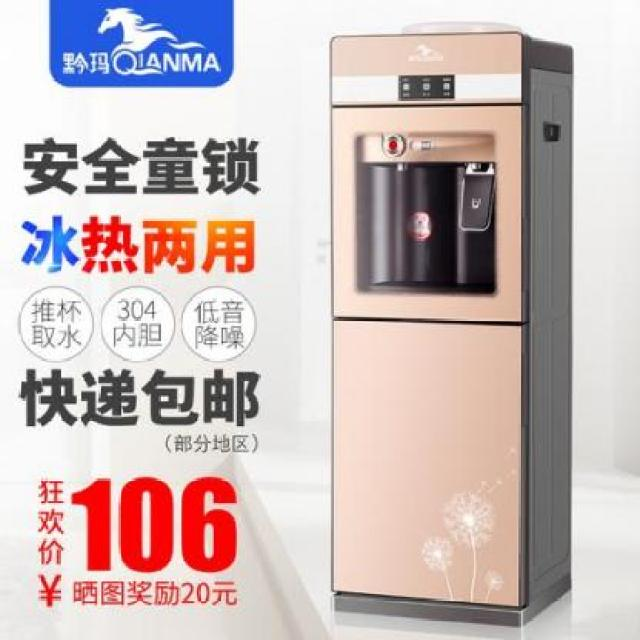cooler: (330, 21, 576, 634)
